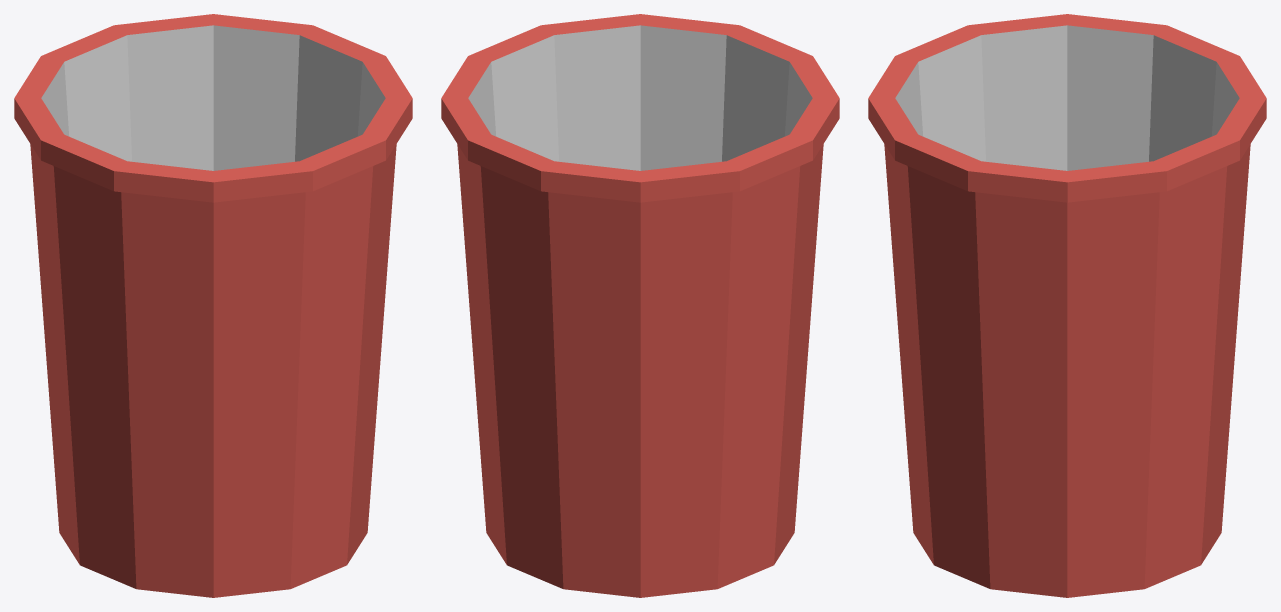
The model's file is Cup.fbx.
3 renders of one model, left to right at view 1: azimuth 30°, elevation 25°; view 2: azimuth 150°, elevation 25°; view 3: azimuth 270°, elevation 25°, orthographic.
Visible parts, largest first — view 1: Cylinder.001, Cylinder.004; view 2: Cylinder.001, Cylinder.004; view 3: Cylinder.001, Cylinder.004.
Boxes of the visible parts, <box> form: Cylinder.001: <box>14,14,412,597</box>; Cylinder.004: <box>41,25,385,170</box>; Cylinder.001: <box>441,14,839,597</box>; Cylinder.004: <box>468,25,812,170</box>; Cylinder.001: <box>868,14,1266,597</box>; Cylinder.004: <box>895,25,1239,170</box>.
Size of the model in its own units: 8.86 by 10.67 by 8.86.
